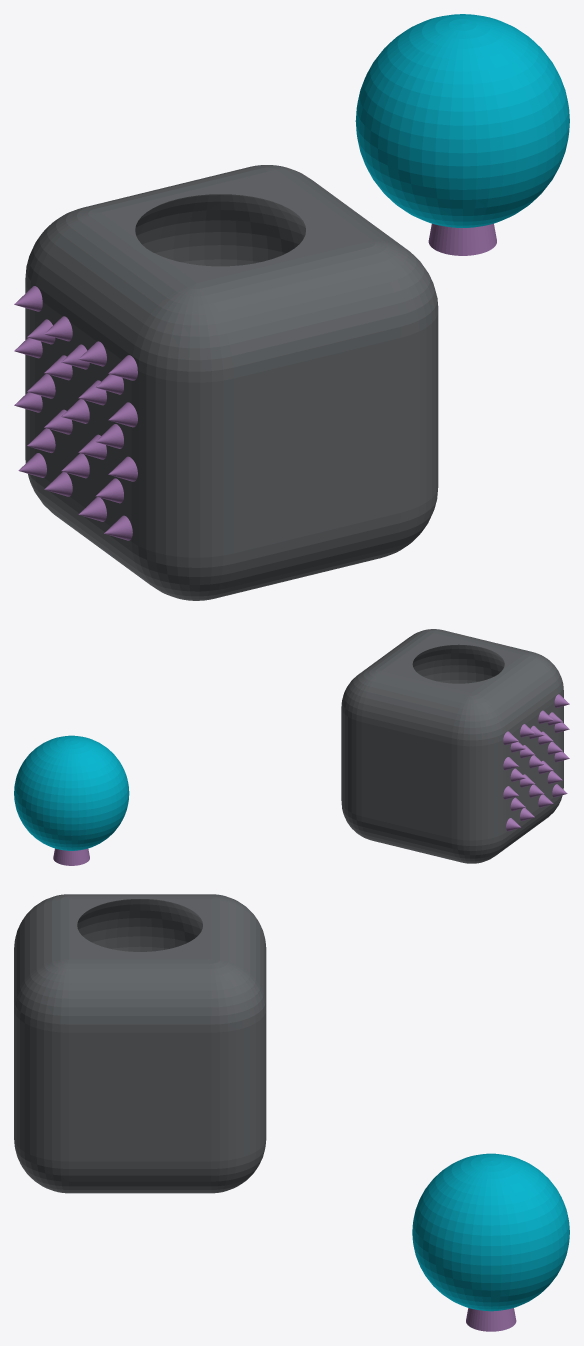
Rendered from Santiago H.glb.
3 renders of one model, top to bottom at view 1: azimuth 30°, elevation 25°; view 2: azimuth 150°, elevation 25°; view 3: azimuth 270°, elevation 25°, orthographic. The views are drawn at different scales.
Parts seen in each view (by area): view 1: Mesh_Mesh_head_geo.001_lambert2SG.001; view 2: Mesh_Mesh_head_geo.001_lambert2SG.001; view 3: Mesh_Mesh_head_geo.001_lambert2SG.001.
Part boxes in pixels (bbox=[...]): Mesh_Mesh_head_geo.001_lambert2SG.001: bbox=[14, 14, 569, 600]; Mesh_Mesh_head_geo.001_lambert2SG.001: bbox=[14, 629, 569, 865]; Mesh_Mesh_head_geo.001_lambert2SG.001: bbox=[14, 894, 569, 1331].
Bounding box in the file's own units: 0.0987 × 0.04 × 0.0881.
